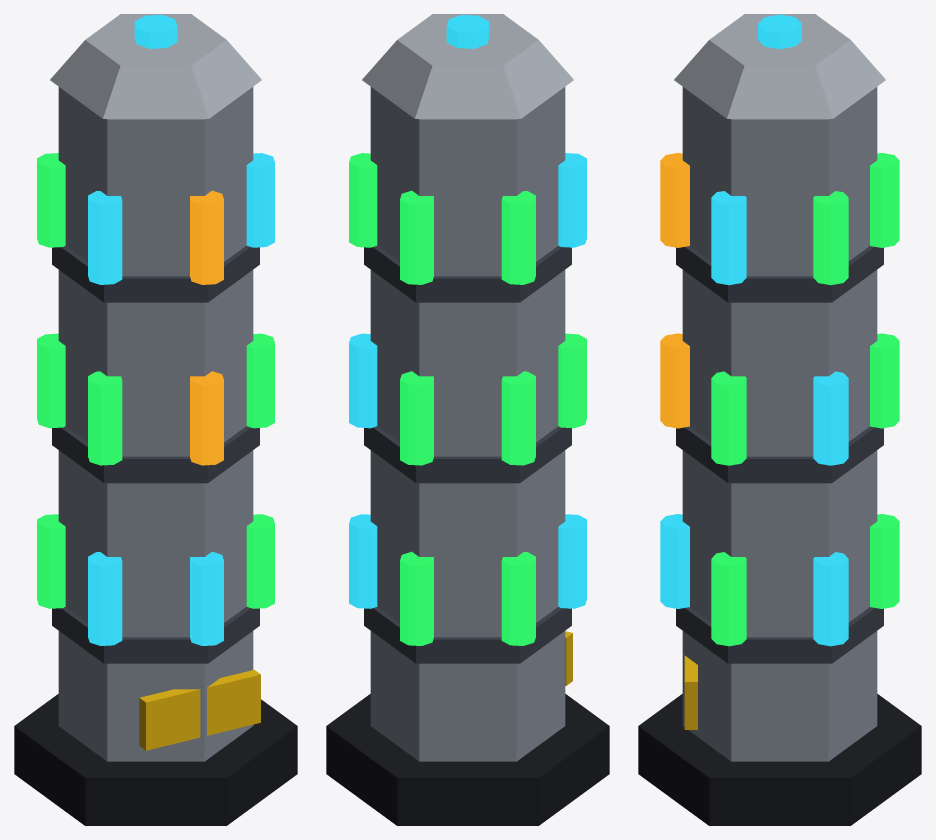
The model's file is weaponrack_energy_charger_tower.glb.
The picture shows the model from 3 angles, left to right: view 1: azimuth 30°, elevation 25°; view 2: azimuth 150°, elevation 25°; view 3: azimuth 270°, elevation 25°; orthographic projection.
Parts seen in each view (by area): view 1: weaponrack_energy_charger_tower; view 2: weaponrack_energy_charger_tower; view 3: weaponrack_energy_charger_tower.
Part boxes in pixels (x1,y1,x2,y2): weaponrack_energy_charger_tower: (14, 14, 297, 825); weaponrack_energy_charger_tower: (326, 14, 609, 825); weaponrack_energy_charger_tower: (638, 14, 921, 825).
Bounding box in the file's own units: 0.5543 × 1.87 × 0.64.
